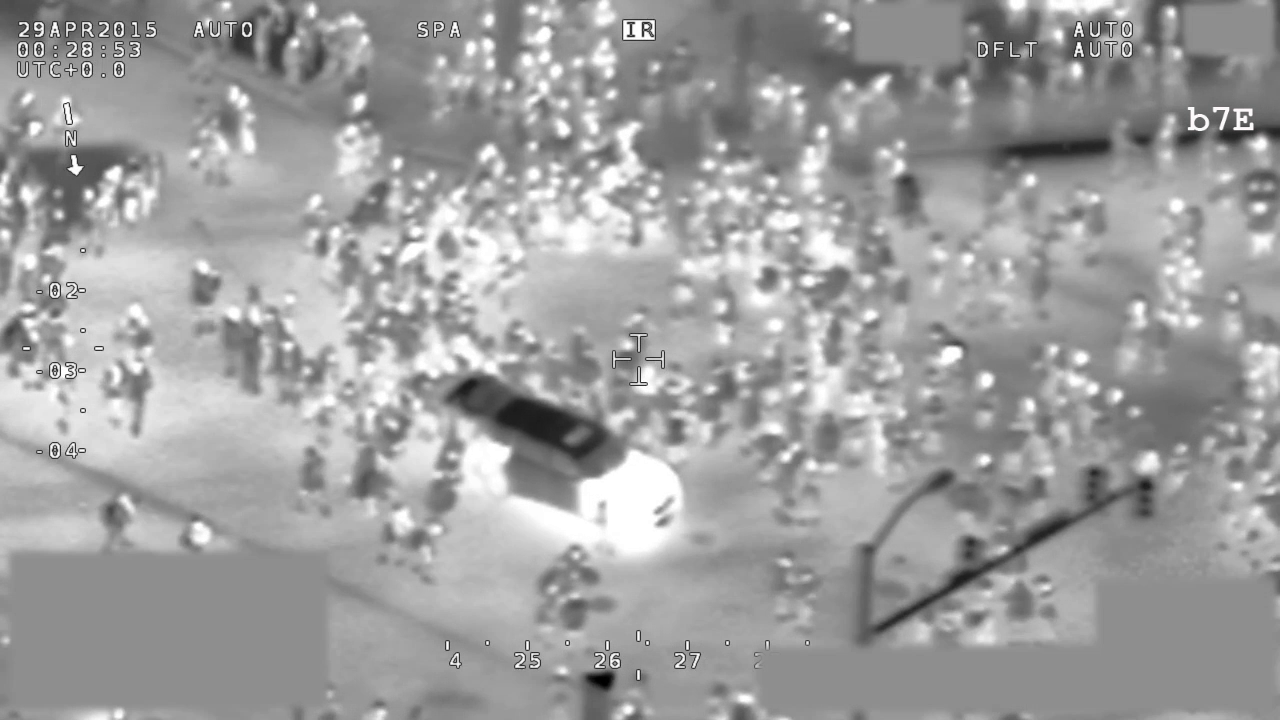vehicle: (427, 359, 692, 557)
